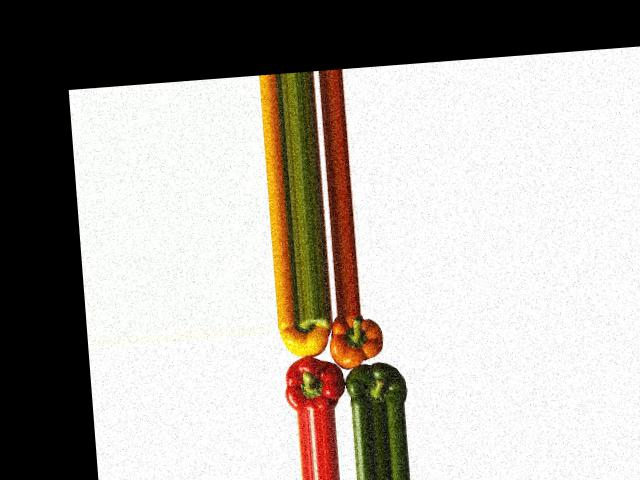bell_pepper: (276, 315, 337, 362)
